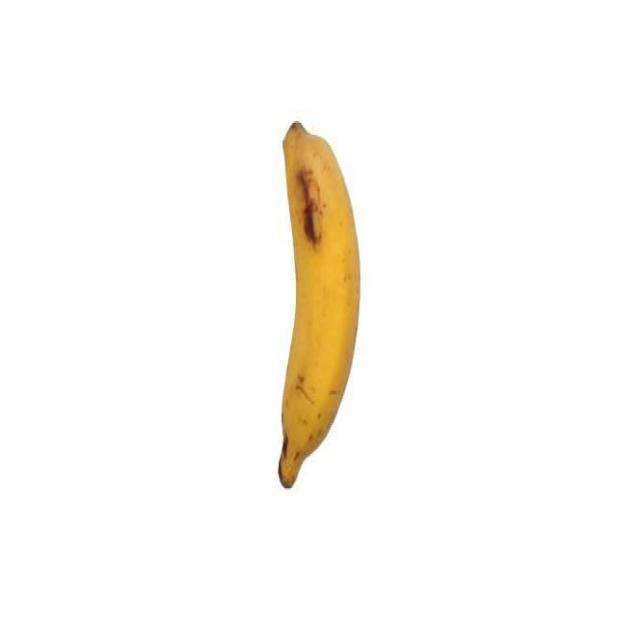Banana: (274, 118, 363, 498)
